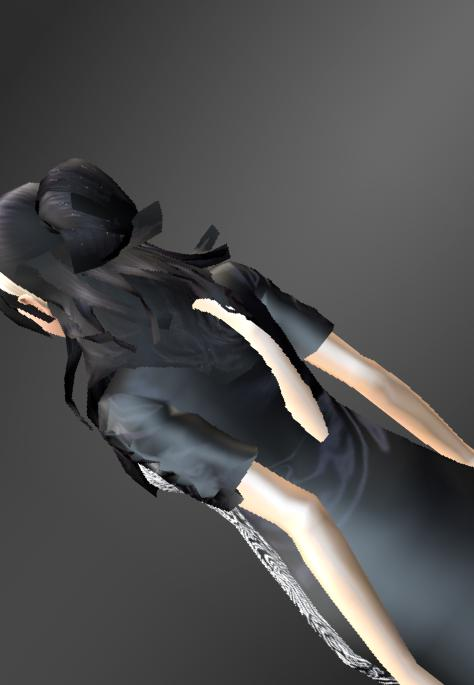clip: (190, 292, 245, 333)
